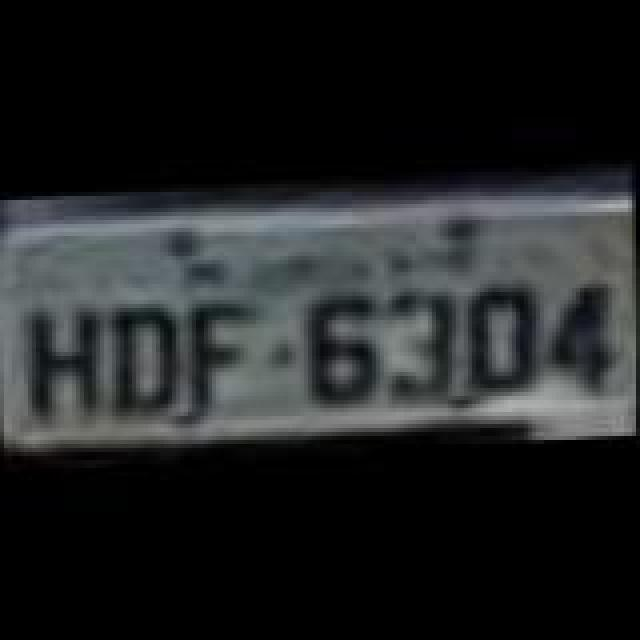3: (384, 284, 460, 400)
4: (550, 278, 630, 402)
6: (306, 292, 386, 408)
D: (112, 294, 188, 418)
F: (190, 298, 262, 418)
H: (20, 306, 112, 430)
O: (464, 284, 540, 400)
